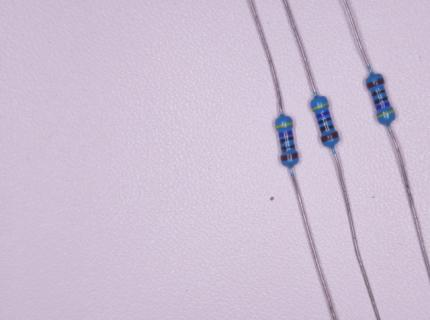Black band: (373, 96, 388, 105), (318, 116, 332, 125), (371, 89, 386, 97), (280, 136, 294, 144), (320, 124, 334, 132), (281, 145, 295, 152)
Brown band: (366, 77, 385, 89), (320, 132, 340, 143), (281, 152, 299, 162)
Violet band: (375, 102, 390, 110), (279, 130, 292, 138), (316, 111, 330, 118)
Yellow band: (312, 102, 328, 111), (377, 110, 394, 118), (276, 123, 292, 128)
